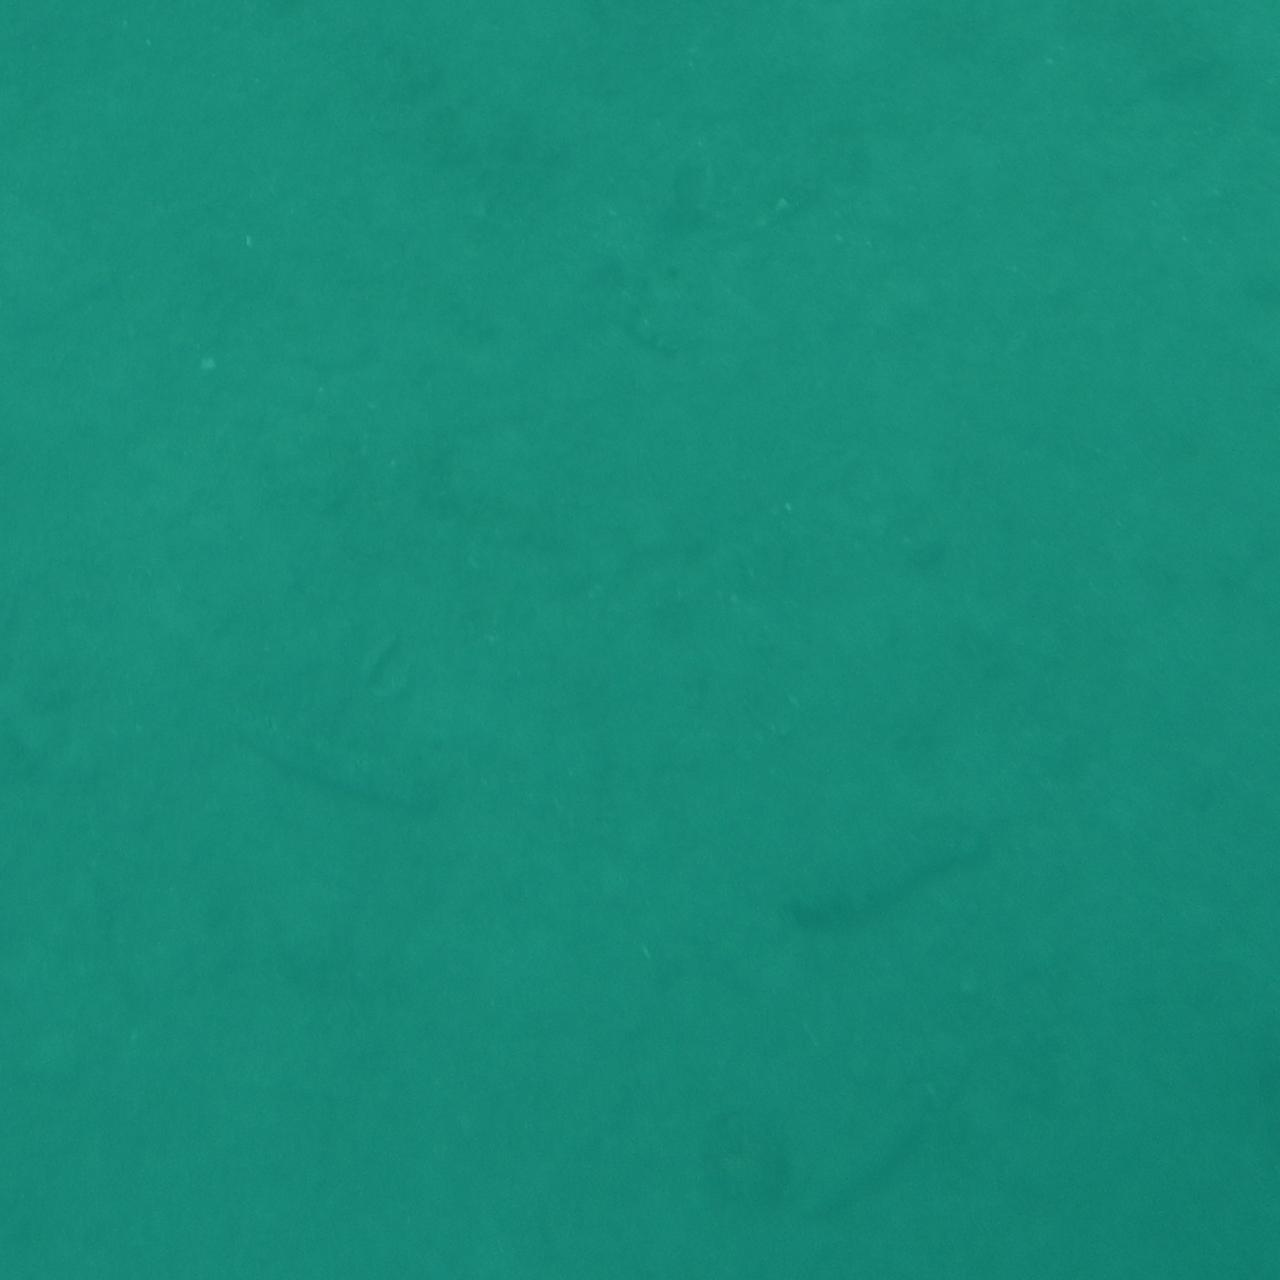Holothuria tubulosa: (785, 792, 1087, 949), (237, 721, 454, 839)
